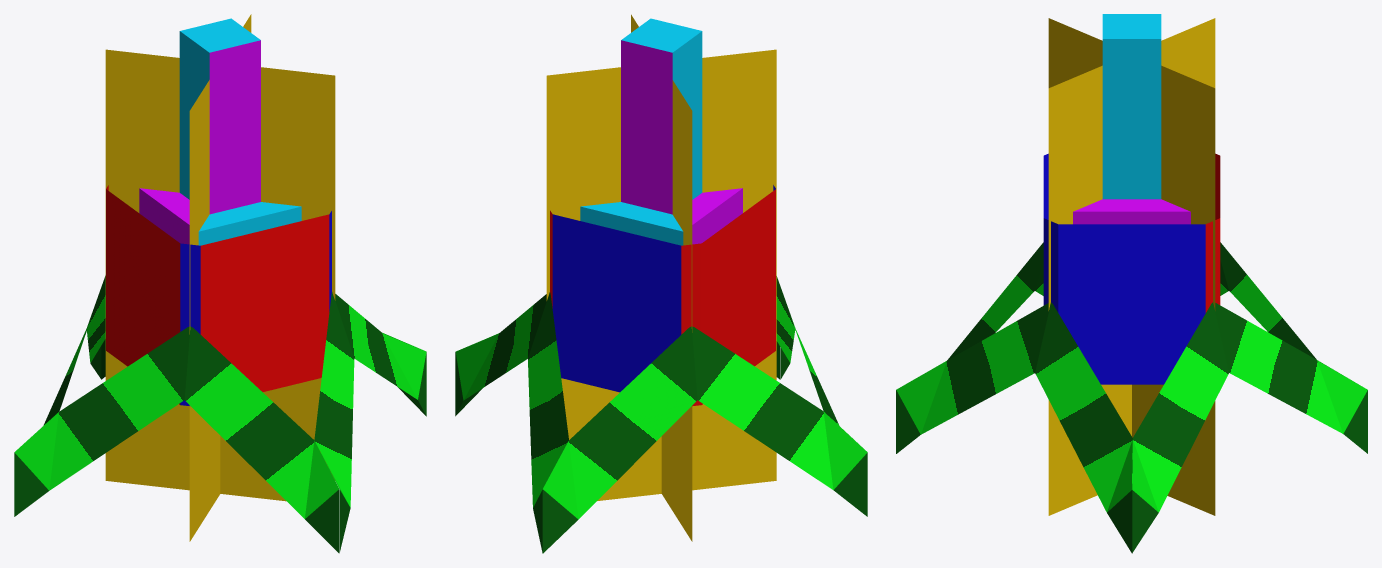
The model's file is torch_ceiling.obj.
The picture shows the model from 3 angles, left to right: view 1: azimuth 30°, elevation 25°; view 2: azimuth 150°, elevation 25°; view 3: azimuth 270°, elevation 25°; orthographic projection.
Parts seen in each view (by area): view 1: Torch_Ceiling_Cube.004; view 2: Torch_Ceiling_Cube.004; view 3: Torch_Ceiling_Cube.004.
Boxes of the visible parts, box(x1,y1,x2,y2) form: Torch_Ceiling_Cube.004: box(14, 14, 426, 553); Torch_Ceiling_Cube.004: box(455, 14, 867, 553); Torch_Ceiling_Cube.004: box(896, 14, 1367, 553).
Size of the model in its own units: 1 by 1.06 by 1.
